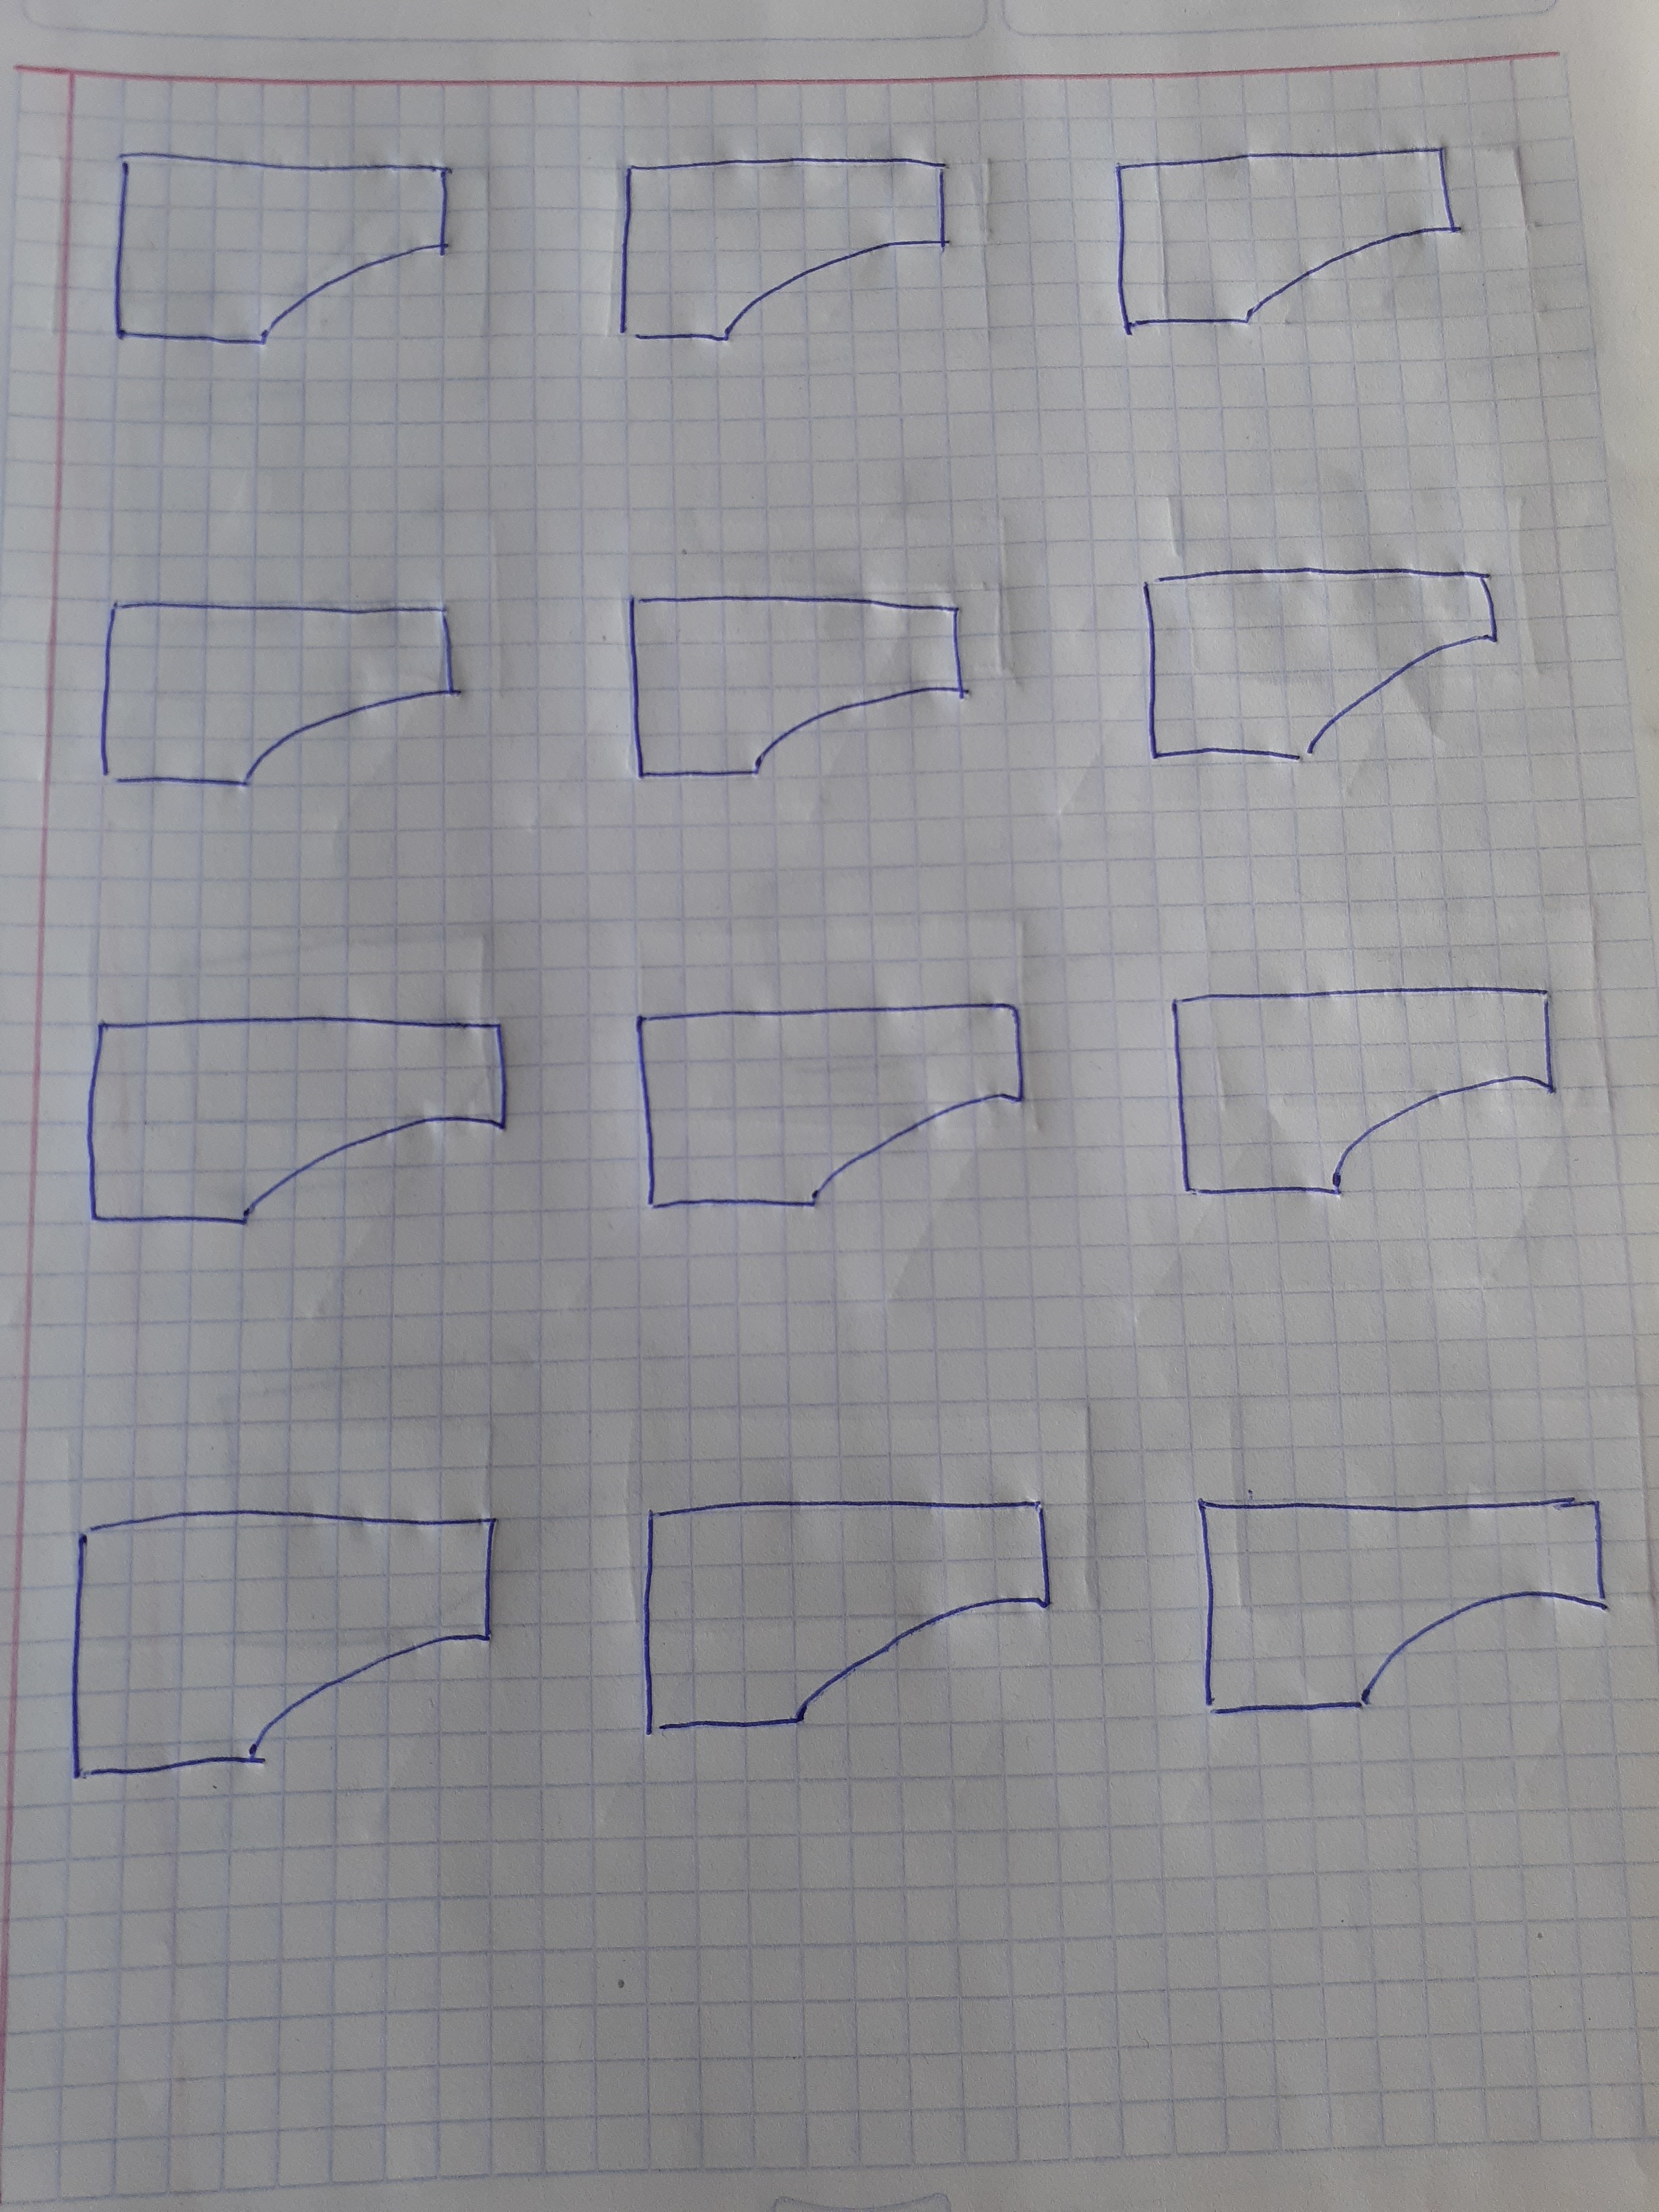print: (61, 1472, 519, 1869), (610, 1461, 1072, 1773), (1166, 1442, 1631, 1750), (58, 974, 544, 1268), (606, 956, 1075, 1261), (58, 540, 502, 845), (1140, 948, 1577, 1252), (1108, 536, 1520, 822), (580, 554, 986, 841), (96, 106, 481, 394), (587, 117, 979, 354), (1091, 120, 1492, 347)
